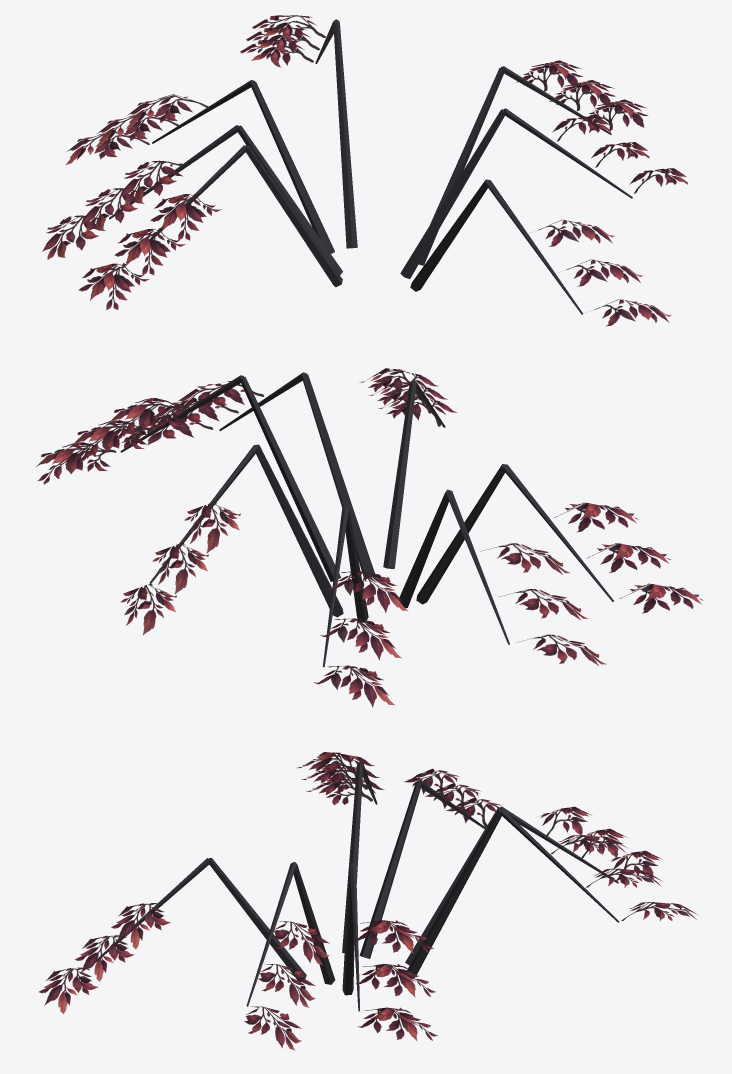
The model's file is ash-bramble.glb.
3 views of the same model, one above another, from view 1: azimuth 30°, elevation 25°; view 2: azimuth 150°, elevation 25°; view 3: azimuth 270°, elevation 25° (orthographic). The views are drawn at different scales.
Visible parts, largest first — view 1: ash-bramble; view 2: ash-bramble; view 3: ash-bramble.
Part boxes in pixels (x1,y1,x2,y2): ash-bramble: [42, 15, 687, 326]; ash-bramble: [35, 368, 703, 707]; ash-bramble: [39, 752, 697, 1050].
Bounding box in the file's own units: 2.96 × 0.8363 × 2.9.
Materials: 2 (1 with a texture image).
